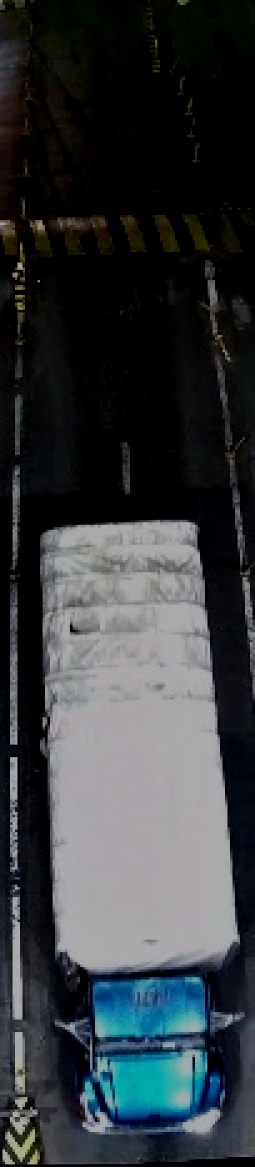truck: (39, 524, 236, 1140)
